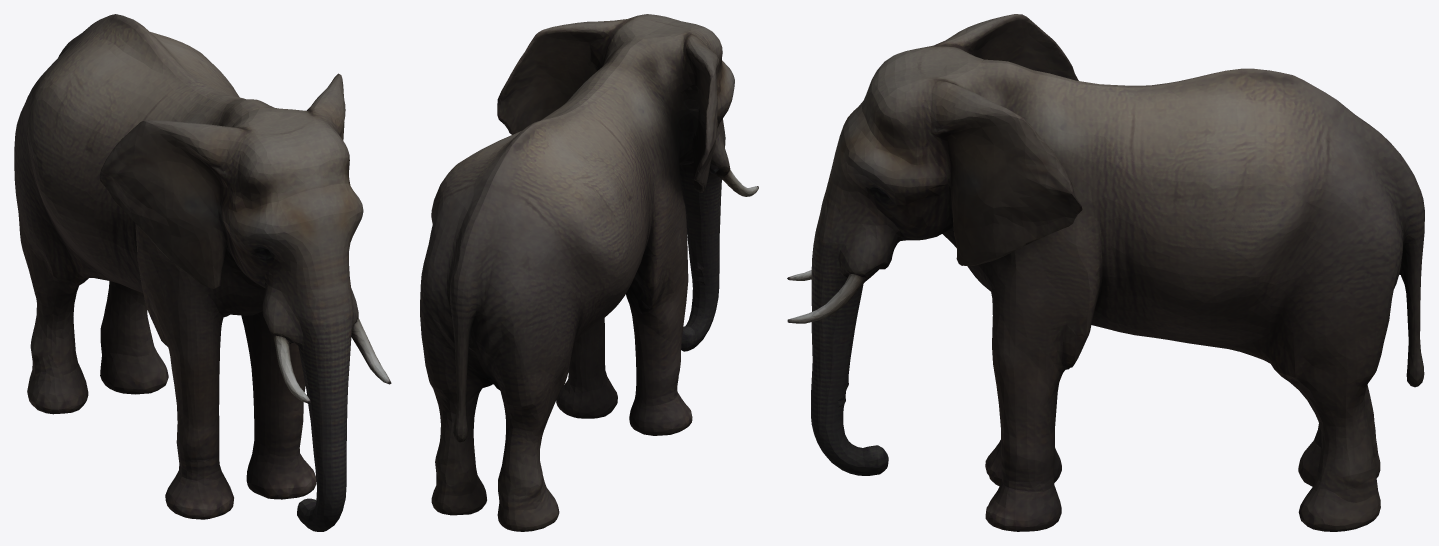
File: elephant-3223.glb
3 views of the same model, side by side, from view 1: azimuth 30°, elevation 25°; view 2: azimuth 150°, elevation 25°; view 3: azimuth 270°, elevation 25° (orthographic). The views are drawn at different scales.
Visible parts, largest first — view 1: world; view 2: world; view 3: world.
Boxes of the visible parts, left/top/right/bottom form: world: left=14, top=14, right=391, bottom=531; world: left=420, top=14, right=758, bottom=531; world: left=787, top=14, right=1424, bottom=531.
Size of the model in its own units: 0.46 by 0.7583 by 0.9998.
Materials: 1 (1 with a texture image).
